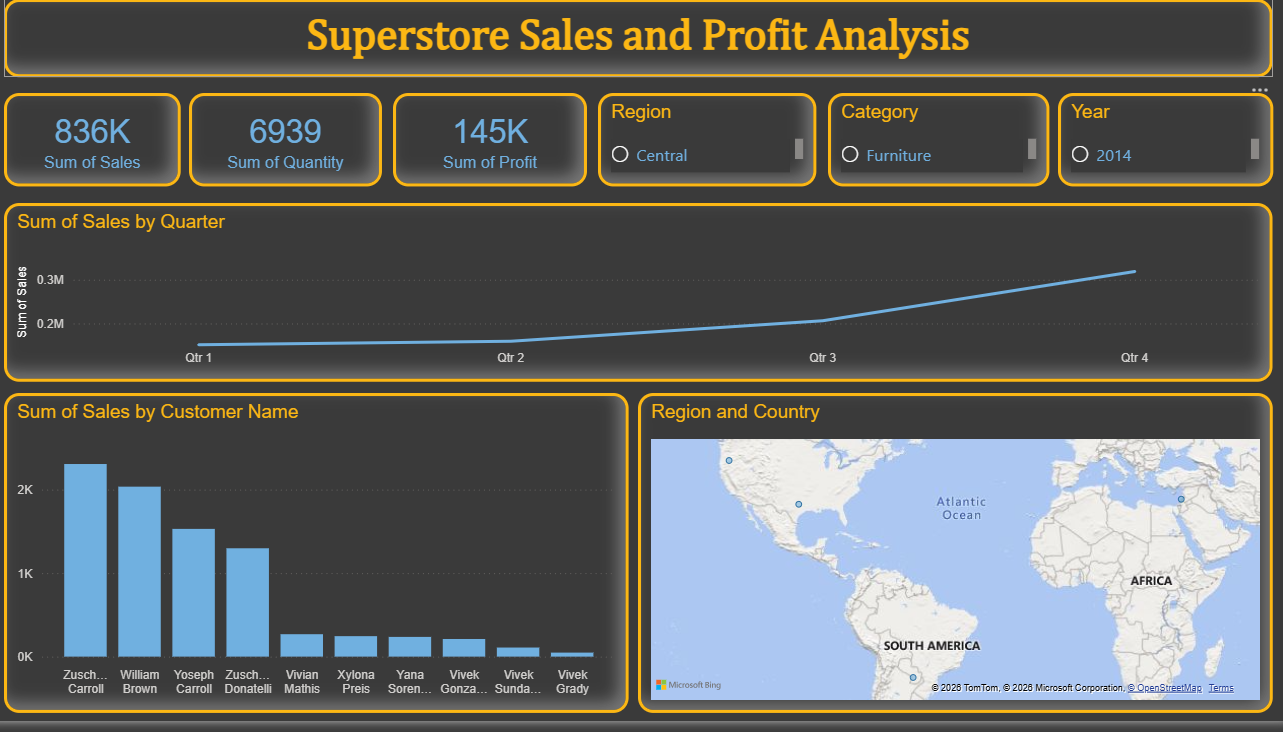

This screenshot's page, from the dashboard's own definition file:
{"tool":"powerbi","page":{"name":"Sales Overview","canvas":[1280,720],"ordinal":0},"visuals":[{"type":"card","fields":{"Values":["Sum(Sample -- Superstore (2).Sales)"]},"box":[14.9,101.8,173.9,91.5],"z":0},{"type":"card","fields":{"Values":["Sum(Sample -- Superstore (2).Quantity)"]},"box":[196.7,101.8,189.9,91.5],"z":1000},{"type":"card","fields":{"Values":["Sum(Sample -- Superstore (2).Profit)"]},"box":[398.1,101.8,191,91.5],"z":2000},{"type":"textbox","box":[14.9,9.2,1249.1,76.6],"z":3000},{"type":"clusteredColumnChart","fields":{"Category":["Sample -- Superstore (2).Customer Name"],"Y":["Sum(Sample -- Superstore (2).Sales)"]},"box":[14.9,396.9,615.4,314.6],"z":4000},{"type":"map","fields":{"Category":["Sample -- Superstore (2).Region","Sample -- Superstore (2).Country","Sample -- Superstore (2).City"],"Series":["Sample -- Superstore (2).Country"]},"box":[639.4,396.9,624.6,314.6],"z":5000},{"type":"listSlicer","fields":{"Values":["Sample -- Superstore (2).Category"]},"box":[825.9,101.8,218.5,91.5],"z":6000},{"type":"lineChart","fields":{"Category":["Sample -- Superstore (2).Order Date.Variation.Date Hierarchy.Year","Sample -- Superstore (2).Order Date.Variation.Date Hierarchy.Quarter","Sample -- Superstore (2).Order Date.Variation.Date Hierarchy.Month","Sample -- Superstore (2).Order Date.Variation.Date Hierarchy.Day"],"Y":["Sum(Sample -- Superstore (2).Sales)"]},"box":[14.9,209.3,1249.1,176.2],"z":7000},{"type":"listSlicer","fields":{"Values":["Sample -- Superstore (2).Region"]},"box":[599.4,101.8,215,91.5],"z":8000},{"type":"listSlicer","fields":{"Values":["Sample -- Superstore (2).Order Date.Variation.Date Hierarchy.Year"]},"box":[1052.4,101.8,211.6,91.5],"z":9000}]}

Visuals, with their boxes in screenshot pixels (x1, y1, x2, y2), scaled from the page's 1280x720 canvas onto the 1283x732 screenshot:
card - Sum(Sample -- Superstore (2).Sales): bbox=[15, 103, 189, 197]
card - Sum(Sample -- Superstore (2).Quantity): bbox=[197, 103, 388, 197]
card - Sum(Sample -- Superstore (2).Profit): bbox=[399, 103, 590, 197]
textbox: bbox=[15, 9, 1267, 87]
clusteredColumnChart - Sample -- Superstore (2).Customer Name x Sum(Sample -- Superstore (2).Sales): bbox=[15, 404, 632, 723]
map - Sample -- Superstore (2).Region x Sample -- Superstore (2).Country: bbox=[641, 404, 1267, 723]
listSlicer - Sample -- Superstore (2).Category: bbox=[828, 103, 1047, 197]
lineChart - Sample -- Superstore (2).Order Date.Variation.Date Hierarchy.Year x Sample -- Superstore (2).Order Date.Variation.Date Hierarchy.Quarter: bbox=[15, 213, 1267, 392]
listSlicer - Sample -- Superstore (2).Region: bbox=[601, 103, 816, 197]
listSlicer - Sample -- Superstore (2).Order Date.Variation.Date Hierarchy.Year: bbox=[1055, 103, 1267, 197]
